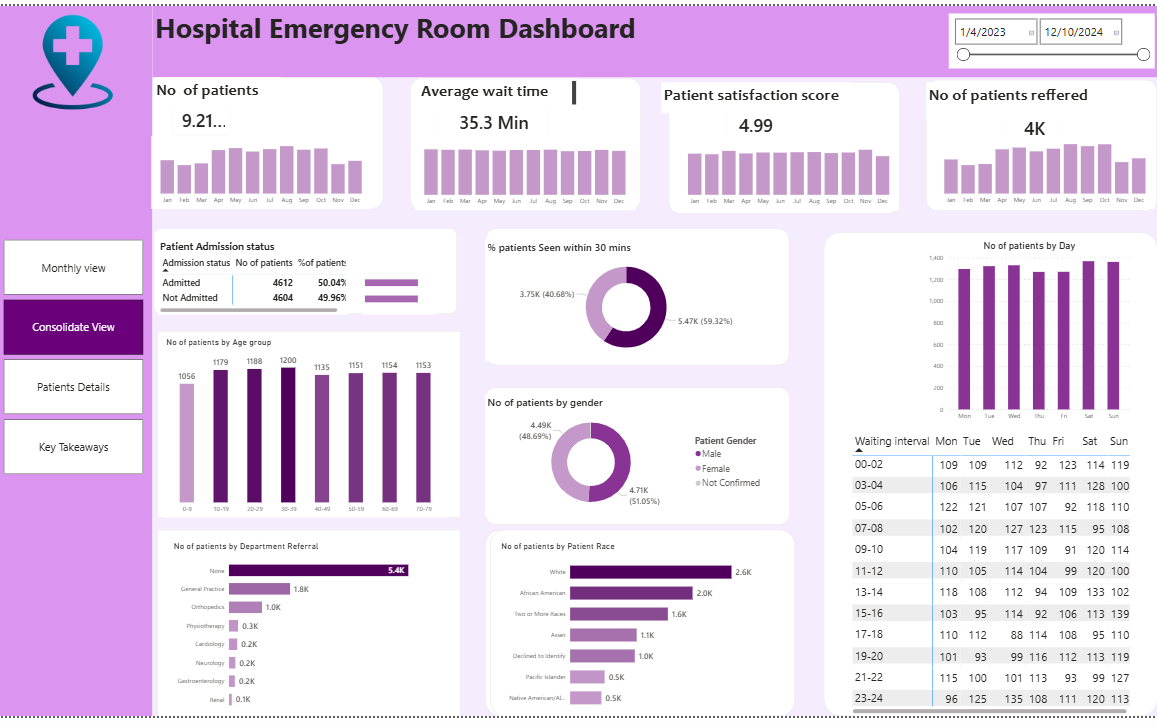

What the dashboard file says about the page in this screenshot:
{"tool":"powerbi","page":{"name":"Consolidate View","canvas":[2300,1400],"ordinal":1},"visuals":[{"type":"shape","box":[0,0,310,1400.5],"z":500},{"type":"shape","box":[966.6,752,601.6,271.2],"z":1000},{"type":"shape","box":[312,440,598,168],"z":2000},{"type":"shape","box":[310.7,0,1989.8,140.5],"z":3000},{"type":"textbox","box":[310.7,0,971.5,96.2],"z":4000},{"type":"shape","box":[310.7,140.5,455,258.9],"z":5000},{"type":"cardVisual","fields":{"Data":["Hospital ER_Data.No of patients"]},"box":[333.4,171.3,149.9,104],"z":6000},{"type":"slicer","fields":{"Values":["Date Table.Date"]},"box":[1882.5,15,405,107.5],"z":7000},{"type":"textbox","box":[312,140.7,250.8,61.2],"z":9000},{"type":"columnChart","fields":{"Category":["Date Table.Month"],"Y":["Hospital ER_Data.No of patients"]},"box":[308.9,256.9,434.3,143.8],"z":10000},{"type":"shape","box":[819.7,143.2,455,258.9],"z":11000},{"type":"cardVisual","fields":{"Data":["Hospital ER_Data.Avg wait_time"]},"box":[858.9,175,250.5,103.4],"z":12000},{"type":"textbox","box":[835,143.8,315,61.2],"z":13000},{"type":"shape","box":[1328.7,150.5,455,258.9],"z":14000},{"type":"cardVisual","fields":{"Data":["Hospital ER_Data.Satisfaction"]},"box":[1425.3,180.5,149.9,104],"z":15000},{"type":"textbox","box":[1315.2,149.9,373.1,61.2],"z":16000},{"type":"shape","box":[1837.7,145.7,455,258.9],"z":17000},{"type":"cardVisual","fields":{"Data":["Hospital ER_Data.Patients reffered"]},"box":[1975.8,186.6,149.9,104],"z":18000},{"type":"textbox","box":[1838.2,149.9,348.7,73.4],"z":19000},{"type":"columnChart","fields":{"Category":["Date Table.Month"],"Y":["Avg(Hospital ER_Data.Patient Waittime)"]},"box":[828.9,260,434.3,143.8],"z":20000},{"type":"columnChart","fields":{"Category":["Date Table.Month"],"Y":["Hospital ER_Data.Satisfaction"]},"box":[1348.8,260,434.3,143.8],"z":21000},{"type":"columnChart","fields":{"Category":["Date Table.Month"],"Y":["Hospital ER_Data.Patients reffered"]},"box":[1853.5,256.9,434.3,143.8],"z":22000},{"type":"pivotTable","title":"Patient Admission status","fields":{"Rows":["Hospital ER_Data.Admission status"],"Values":["Hospital ER_Data.No of patients1","Hospital ER_Data.No of patients"]},"box":[320,460,376,148],"z":23000},{"type":"barChart","fields":{"Category":["Hospital ER_Data.Admission status"],"Y":["Hospital ER_Data.No of patients"]},"box":[724,510,146,98],"z":24000},{"type":"shape","box":[320,642,598,368],"z":25000},{"type":"clusteredColumnChart","fields":{"Category":["Hospital ER_Data.Age group"],"Y":["Hospital ER_Data.No of patients"]},"box":[332,654,560,356],"z":26000},{"type":"shape","box":[320,1032,598,368],"z":27000},{"type":"clusteredBarChart","fields":{"Category":["Hospital ER_Data.Department Referral"],"Y":["Hospital ER_Data.No of patients"]},"box":[347.5,1055,512.5,345],"z":28000},{"type":"shape","box":[967.5,440,600,270],"z":29000},{"type":"donutChart","title":"% patients Seen within 30 mins","fields":{"Category":["Hospital ER_Data.Waiting time"],"Y":["Hospital ER_Data.No of patients"]},"box":[967.5,460,557.5,240],"z":30000},{"type":"donutChart","title":"No  of patients by  gender","fields":{"Category":["Hospital ER_Data.Patient Gender"],"Y":["Hospital ER_Data.No of patients"]},"box":[967.6,767.9,557.5,240],"z":31000},{"type":"shape","box":[966.6,1033.1,601.6,367.4],"z":32000},{"type":"shape","box":[966.6,1032.6,601.6,367.4],"z":33000},{"type":"shape","box":[976.6,1032.6,601.6,367.4],"z":34000},{"type":"clusteredBarChart","fields":{"Y":["Hospital ER_Data.No of patients"],"Category":["Hospital ER_Data.Patient Race"]},"box":[993.7,1055.3,512.9,345.2],"z":35000},{"type":"shape","box":[1634.8,446.3,658.3,954.2],"z":36000},{"type":"pivotTable","fields":{"Rows":["Hospital ER_Data.Waiting interval"],"Columns":["Date Table.Day Name"],"Values":["Hospital ER_Data.No of patients"]},"box":[1686.5,835.9,557.2,564.6],"z":37000},{"type":"clusteredColumnChart","title":"No of patients by Day","fields":{"Y":["Hospital ER_Data.No of patients"],"Category":["Date Table.Day Name"]},"box":[1836.9,461.1,406.8,364.9],"z":38000},{"type":"image","box":[50,17.5,207.5,187.5],"z":39001},{"type":"pageNavigator","box":[17.5,460,275,462.5],"z":39002}]}

Visuals, with their boxes in screenshot pixels (x1, y1, x2, y2), scaled from the page's 2300x1400 canvas onto the 1157x725 screenshot:
shape: 0,0,156,724
shape: 486,389,789,530
shape: 157,228,458,315
shape: 156,0,1156,73
textbox: 156,0,645,50
shape: 156,73,385,207
cardVisual - Hospital ER_Data.No of patients: 168,89,243,143
slicer - Date Table.Date: 947,8,1151,63
textbox: 157,73,283,105
columnChart - Date Table.Month x Hospital ER_Data.No of patients: 155,133,374,208
shape: 412,74,641,208
cardVisual - Hospital ER_Data.Avg wait_time: 432,91,558,144
textbox: 420,74,578,106
shape: 668,78,897,212
cardVisual - Hospital ER_Data.Satisfaction: 717,93,792,147
textbox: 662,78,849,109
shape: 924,75,1153,210
cardVisual - Hospital ER_Data.Patients reffered: 994,97,1069,150
textbox: 925,78,1100,116
columnChart - Date Table.Month x Avg(Hospital ER_Data.Patient Waittime): 417,135,635,209
columnChart - Date Table.Month x Hospital ER_Data.Satisfaction: 679,135,897,209
columnChart - Date Table.Month x Hospital ER_Data.Patients reffered: 932,133,1151,208
"Patient Admission status" pivotTable: 161,238,350,315
barChart - Hospital ER_Data.Admission status x Hospital ER_Data.No of patients: 364,264,438,315
shape: 161,332,462,523
clusteredColumnChart - Hospital ER_Data.Age group x Hospital ER_Data.No of patients: 167,339,449,523
shape: 161,534,462,724
clusteredBarChart - Hospital ER_Data.Department Referral x Hospital ER_Data.No of patients: 175,546,433,724
shape: 487,228,789,368
"% patients Seen within 30 mins" donutChart: 487,238,767,363
"No  of patients by  gender" donutChart: 487,398,767,522
shape: 486,535,789,724
shape: 486,535,789,724
shape: 491,535,794,724
clusteredBarChart - Hospital ER_Data.No of patients x Hospital ER_Data.Patient Race: 500,546,758,724
shape: 822,231,1154,724
pivotTable - Hospital ER_Data.Waiting interval x Date Table.Day Name: 848,433,1129,724
"No of patients by Day" clusteredColumnChart: 924,239,1129,428
image: 25,9,130,106
pageNavigator: 9,238,147,478
